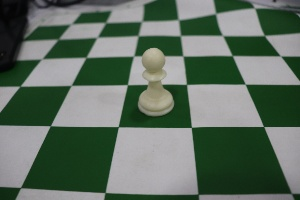white_pawn: (119, 37, 189, 128)
